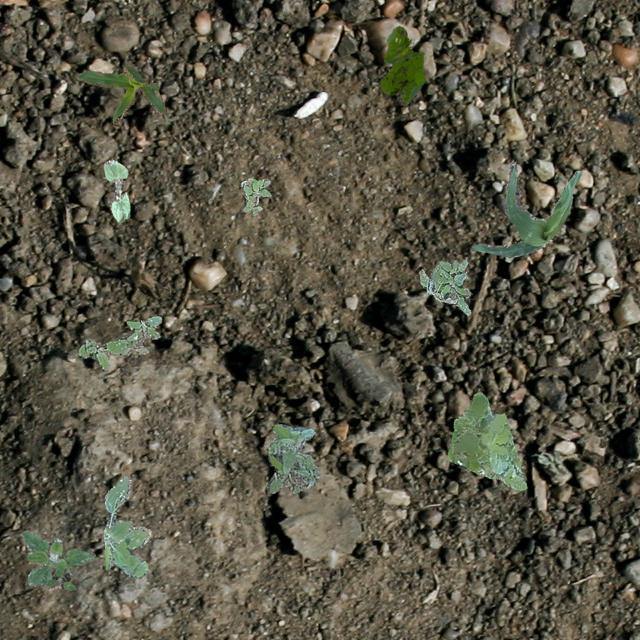crop: (472, 160, 580, 256), (76, 64, 166, 122), (102, 158, 128, 222)
weed: (446, 392, 526, 489), (102, 476, 150, 576), (76, 314, 160, 368), (20, 530, 94, 590), (266, 423, 318, 492), (380, 24, 424, 104), (418, 258, 469, 314), (240, 178, 270, 215)
